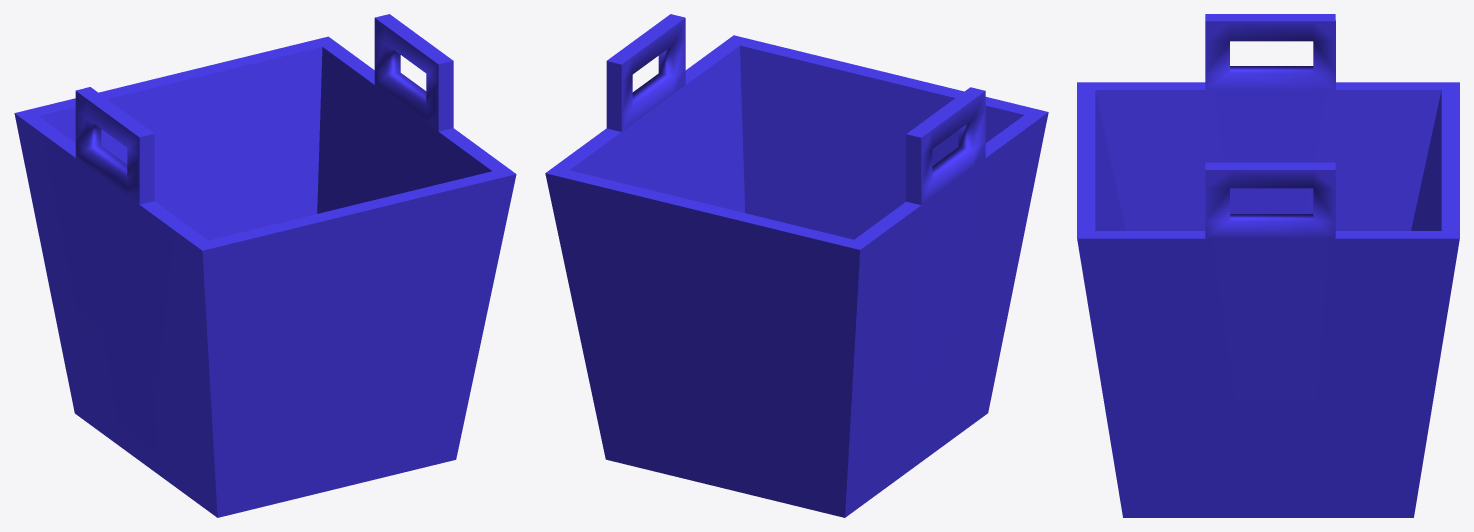
File: poon2.fbx
The picture shows the model from 3 angles, left to right: view 1: azimuth 30°, elevation 25°; view 2: azimuth 150°, elevation 25°; view 3: azimuth 270°, elevation 25°; orthographic projection.
Visible parts, largest first — view 1: pCube2; view 2: pCube2; view 3: pCube2.
Part boxes in pixels (x1,y1,x2,y2): pCube2: (14,14,516,517); pCube2: (545,14,1048,517); pCube2: (1077,14,1459,517).
Bounding box in the file's own units: 2.08 × 2.28 × 2.16.
Materials: 1 (1 with a texture image).
